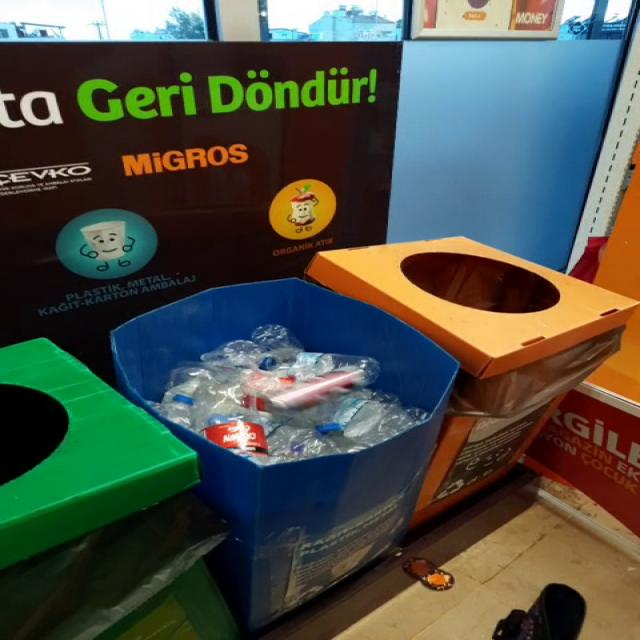metal: (267, 370, 367, 410)
